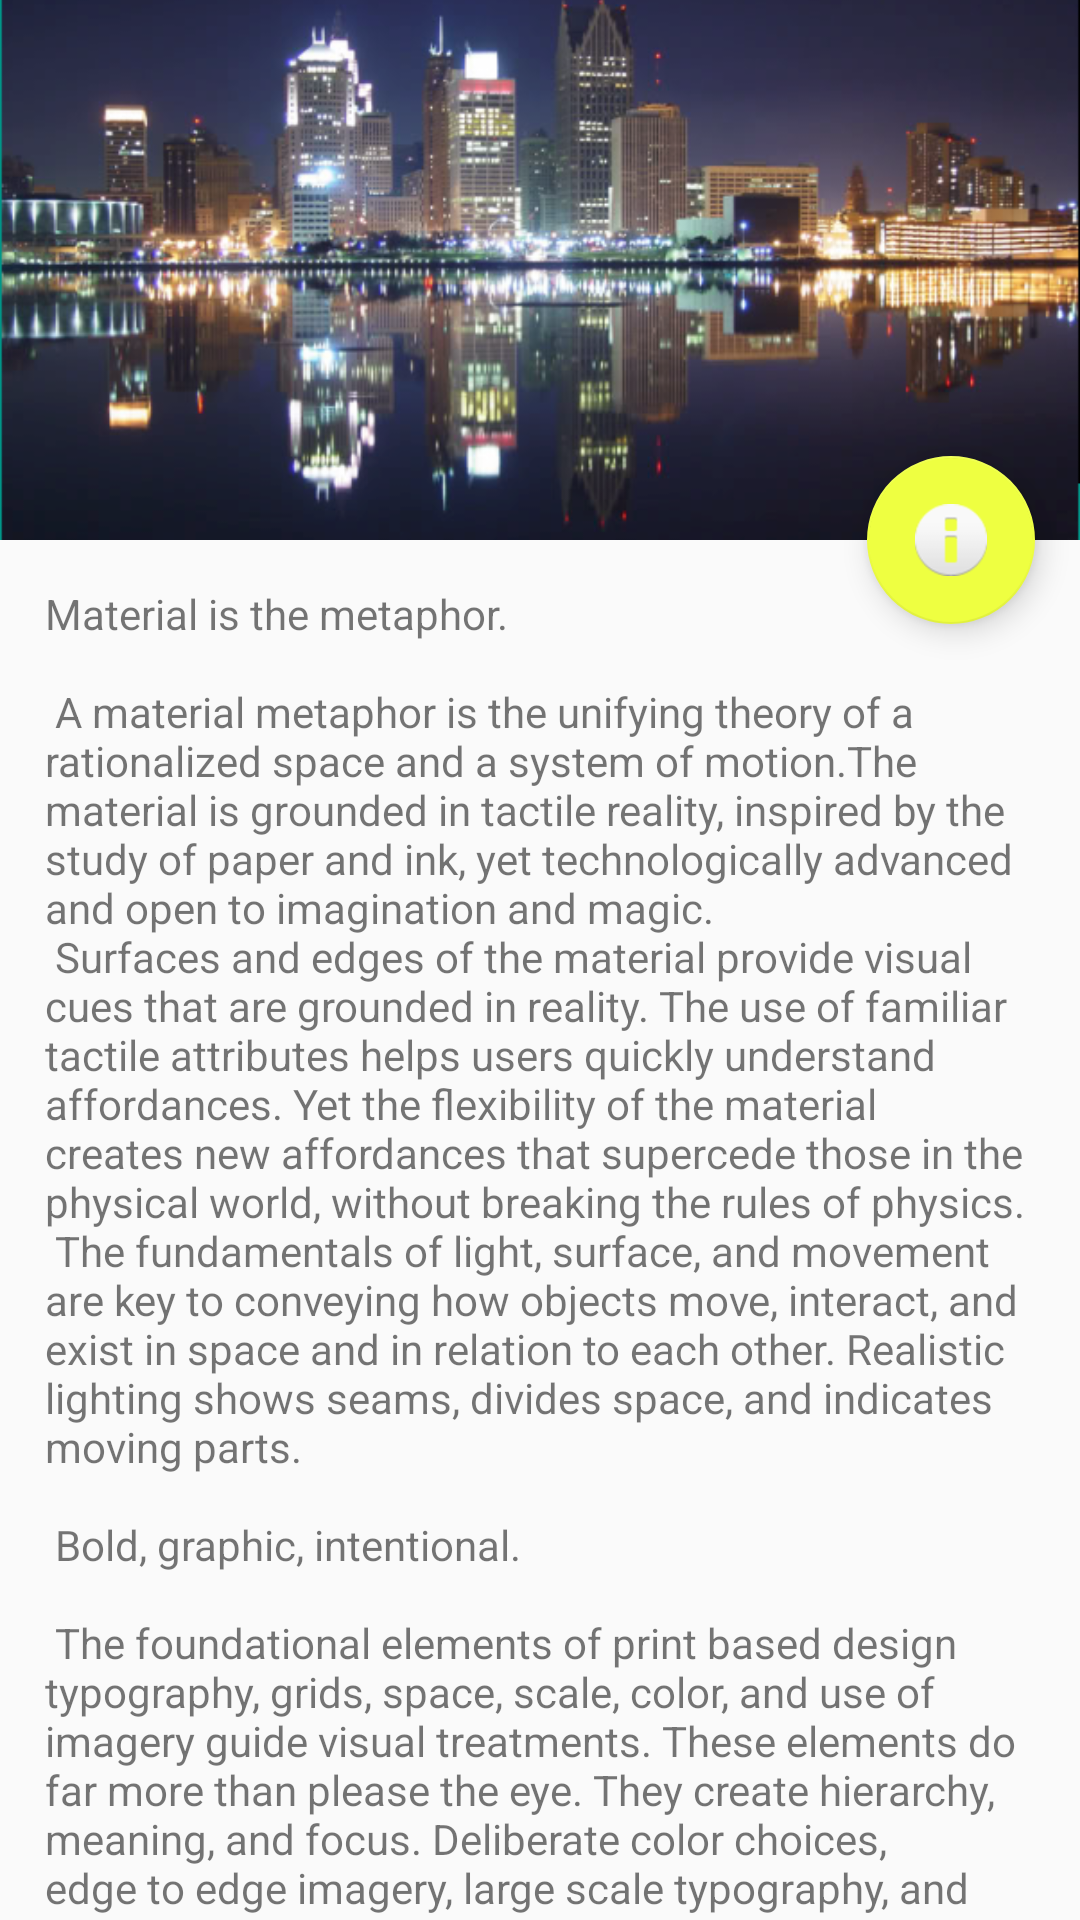

Named icons in this screenshot (1080×1920) and their centers, (x,y):
info: (951,540)
